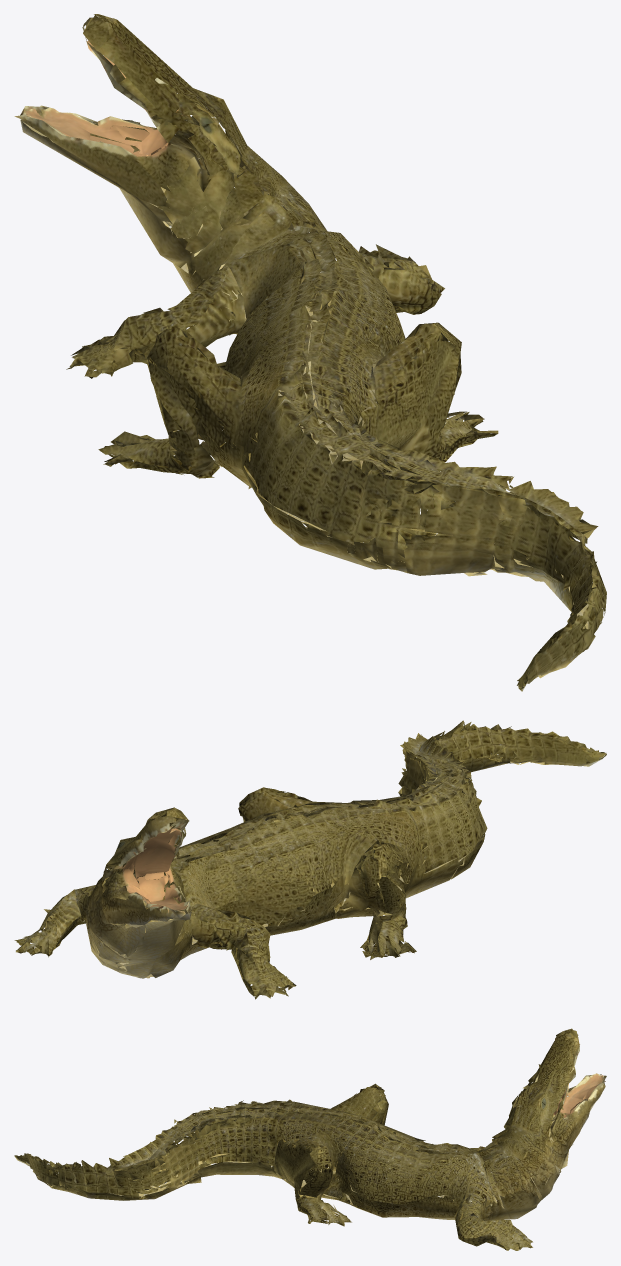
Rendered from crocodile.glb.
3 renders of one model, top to bottom at view 1: azimuth 30°, elevation 25°; view 2: azimuth 150°, elevation 25°; view 3: azimuth 270°, elevation 25°, orthographic. The views are drawn at different scales.
Parts seen in each view (by area): view 1: Object_2; view 2: Object_2; view 3: Object_2.
Boxes of the visible parts, left/top/right/bottom form: Object_2: left=14, top=14, right=606, bottom=691; Object_2: left=14, top=720, right=606, bottom=999; Object_2: left=14, top=1028, right=606, bottom=1250.
Size of the model in its own units: 1.91 by 1.25 by 4.21.
Materials: 1 (1 with a texture image).
